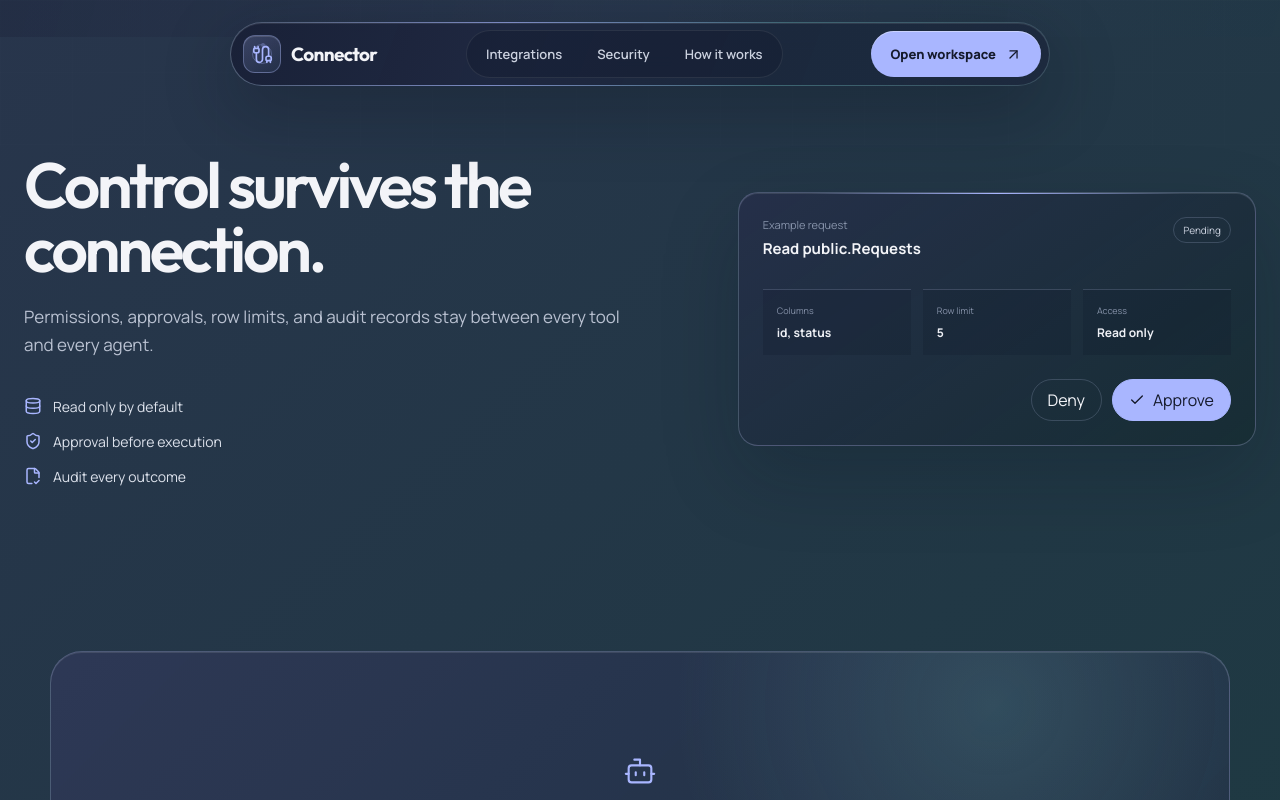
Scenario: Connector landing page › records an approval decision and can reset the interactive governance example
(page scrolled)
Step 1. Click the button "Approve" → (1172, 400), box left=1112, top=379, right=1231, bottom=421
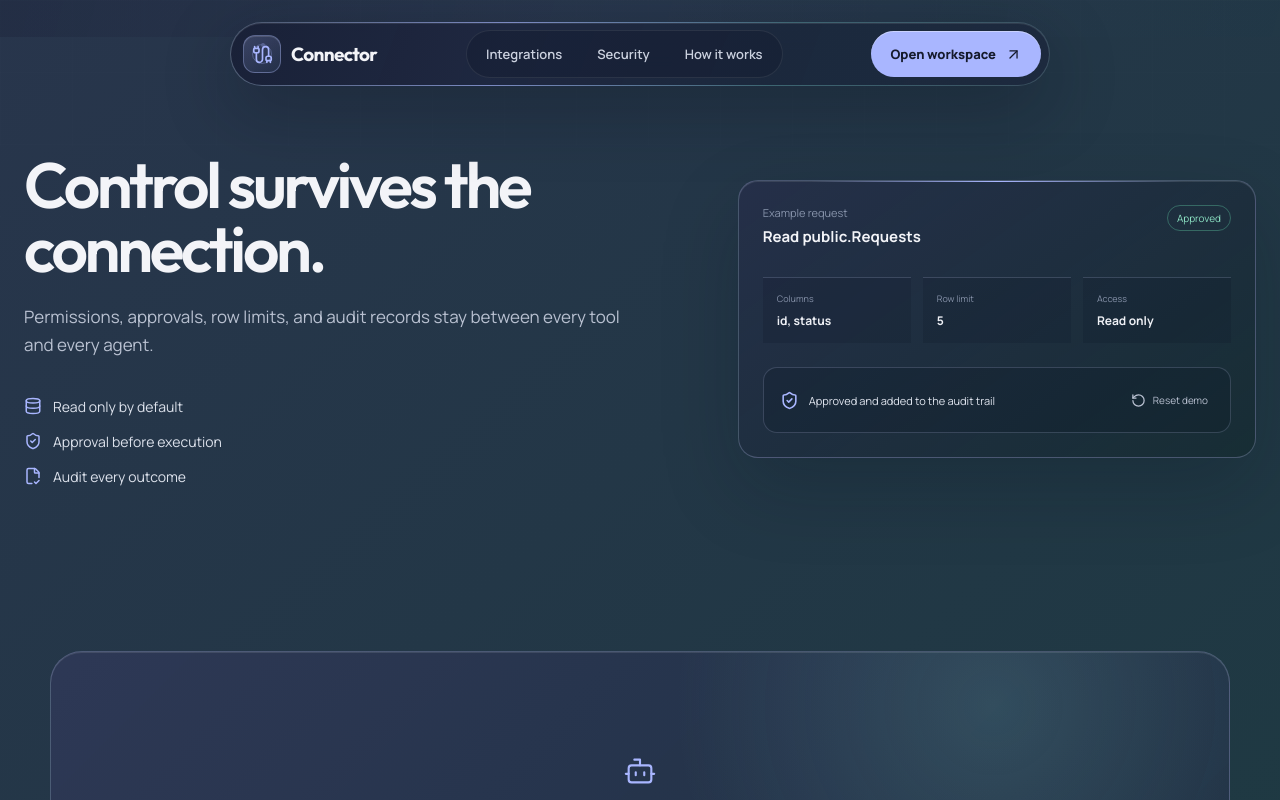
expect the text "Approved and added to the audit trail" is shown: met, box left=809, top=393, right=995, bottom=408
expect the button "Deny" is gone: met
Step 2. Click the button "Reset demo" → (1169, 400), box left=1125, top=392, right=1214, bottom=409
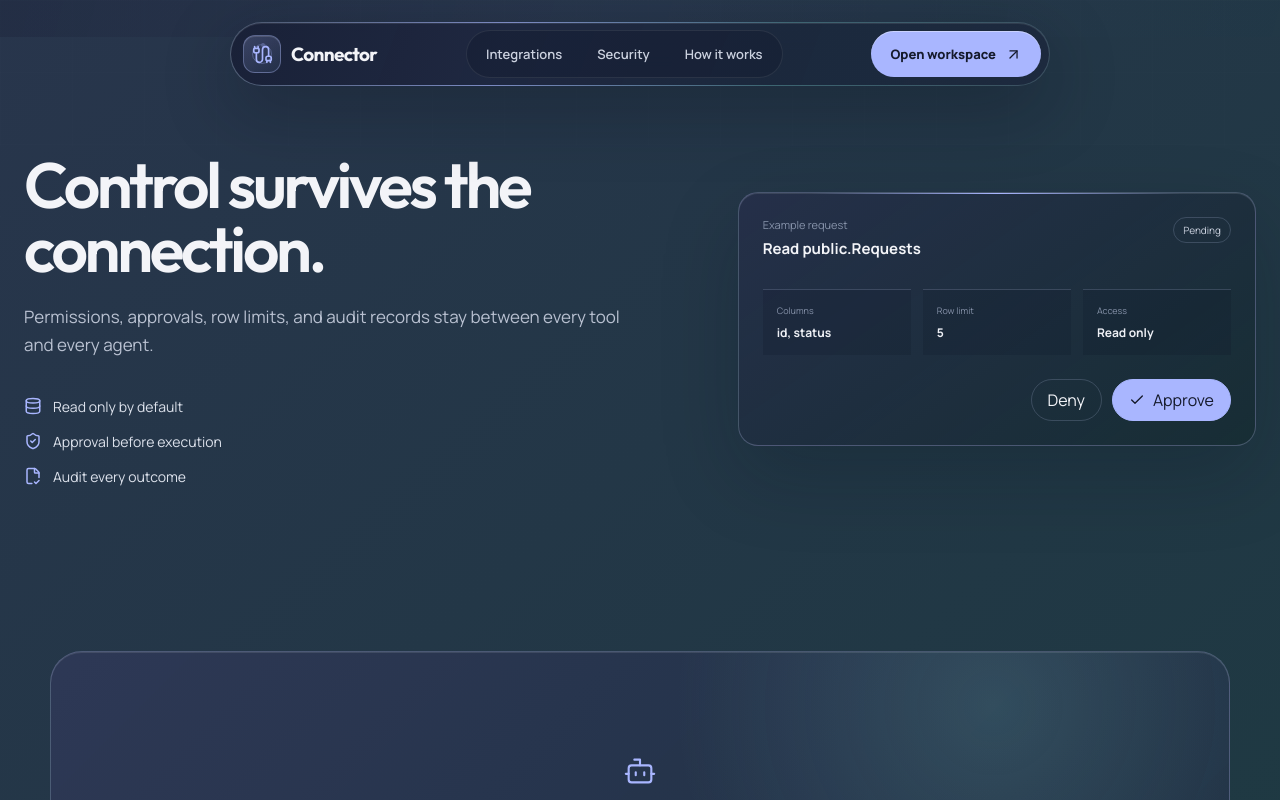
expect the button "Approve" is enabled: met, box left=1112, top=379, right=1231, bottom=421
expect the button "Deny" is enabled: met, box left=1030, top=379, right=1102, bottom=421
